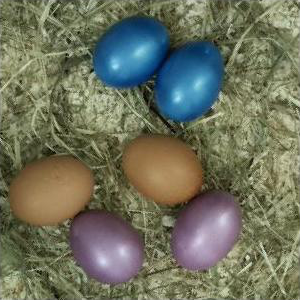egg: (121, 134, 204, 208), (10, 155, 95, 227), (170, 191, 243, 272), (70, 209, 146, 285), (153, 42, 224, 123), (92, 17, 170, 89)
